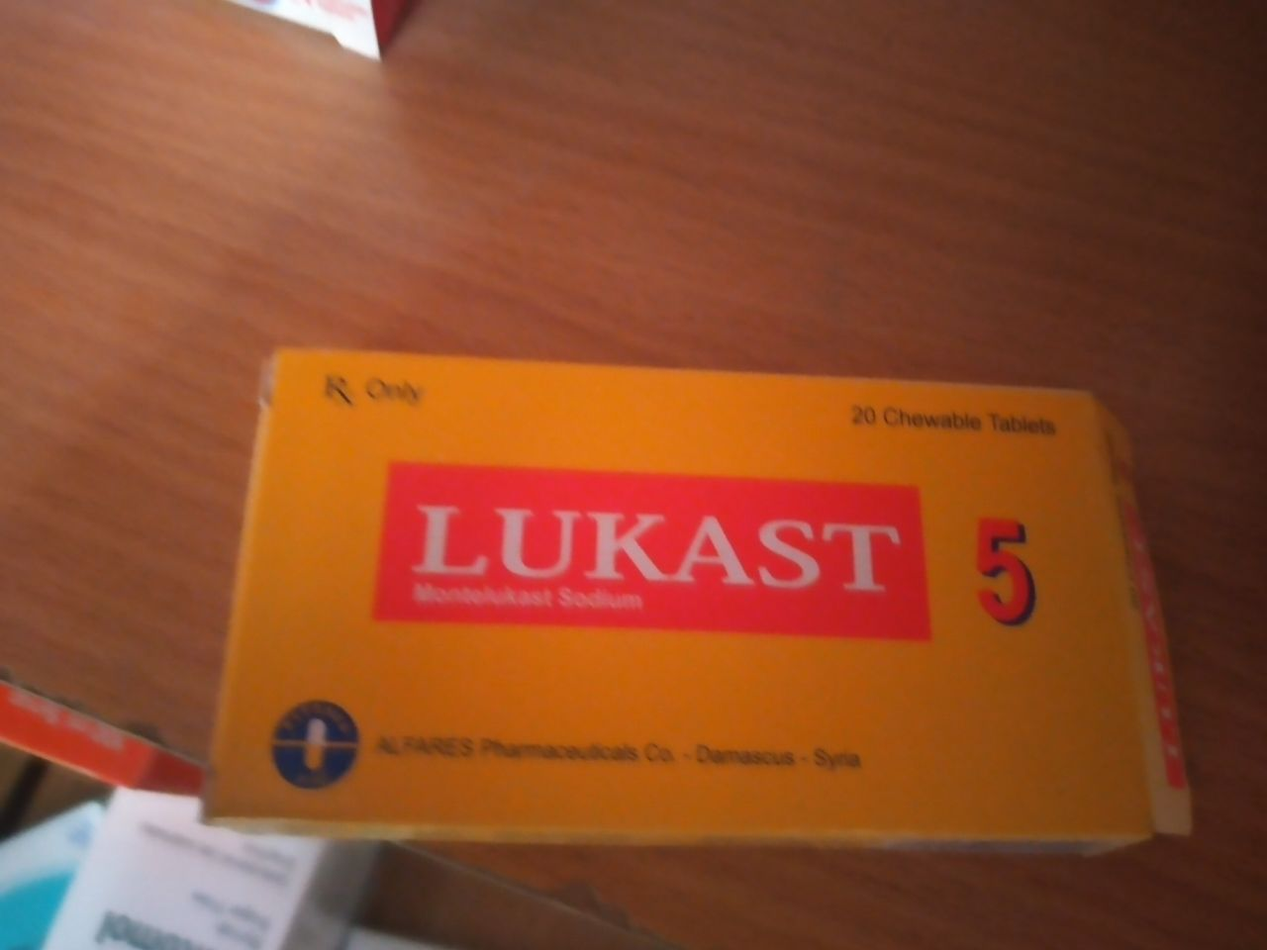Medicine: (200, 332, 1161, 883)
